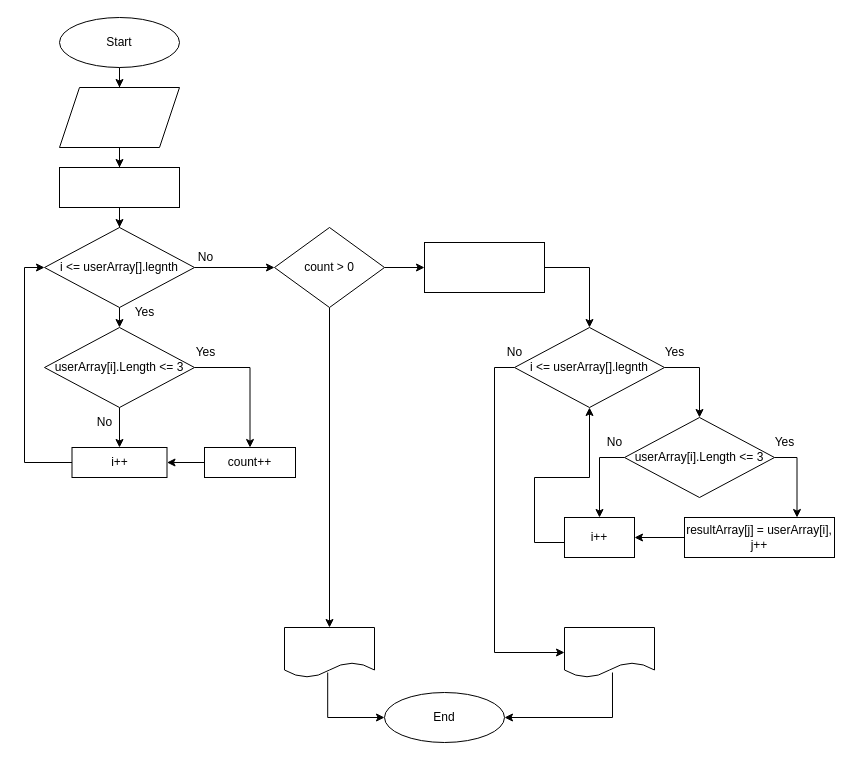
The diagram is 852 pixels wide and 760 high, and some of its shapes have lost their labels. The centre of each missing label's shape, as x and y in pixels:
"Нет таких элементов": pixel 329 652
i = 0, count=0: pixel 119 187
resultArray[]: pixel 609 652
resultArray[count], i = 0, j = 0: pixel 484 267
userArray[],: pixel 119 117
